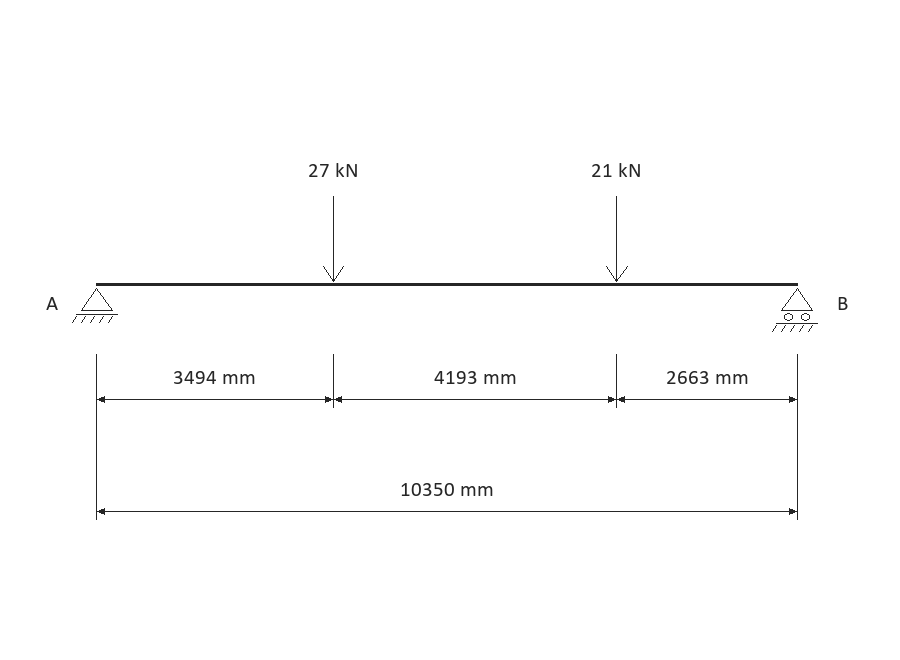pin_support: (72, 288, 118, 323)
point_load: (606, 196, 628, 282), (323, 196, 344, 282)
roller_support: (772, 288, 818, 332)
